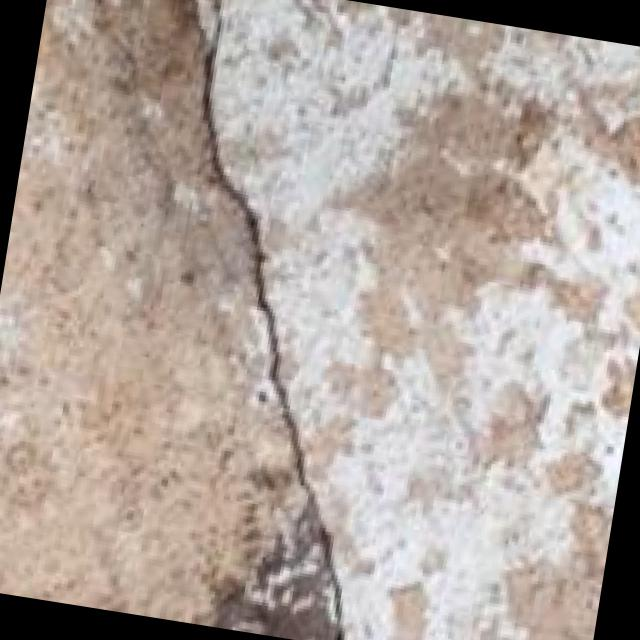crack: (33, 0, 446, 640)
